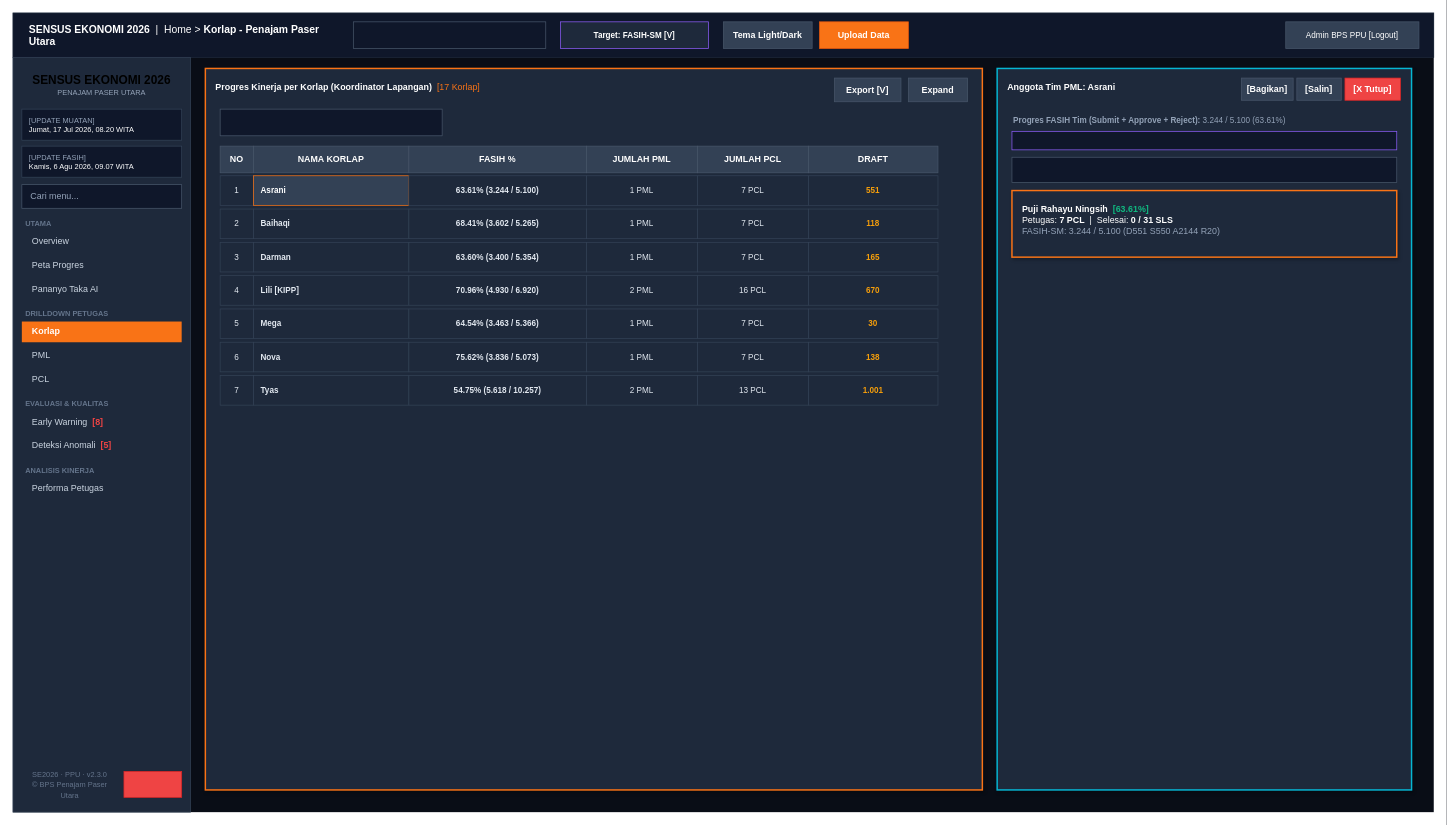
Image size: 1447x825. Some labels were removed from this diagram. The centre of each missing label's shape, as x and y in pixels:
"[Ctrl K] Cari menu / data..." belongs at (x=449, y=34).
"[PROGRESS BAR TIM: =================== 63.61% ===================]" belongs at (x=1204, y=140).
"Cari nama Korlap..." belongs at (x=330, y=122).
"Cari nama PML dalam tim..." belongs at (x=1204, y=169).
"Logout" belongs at (x=152, y=784).
